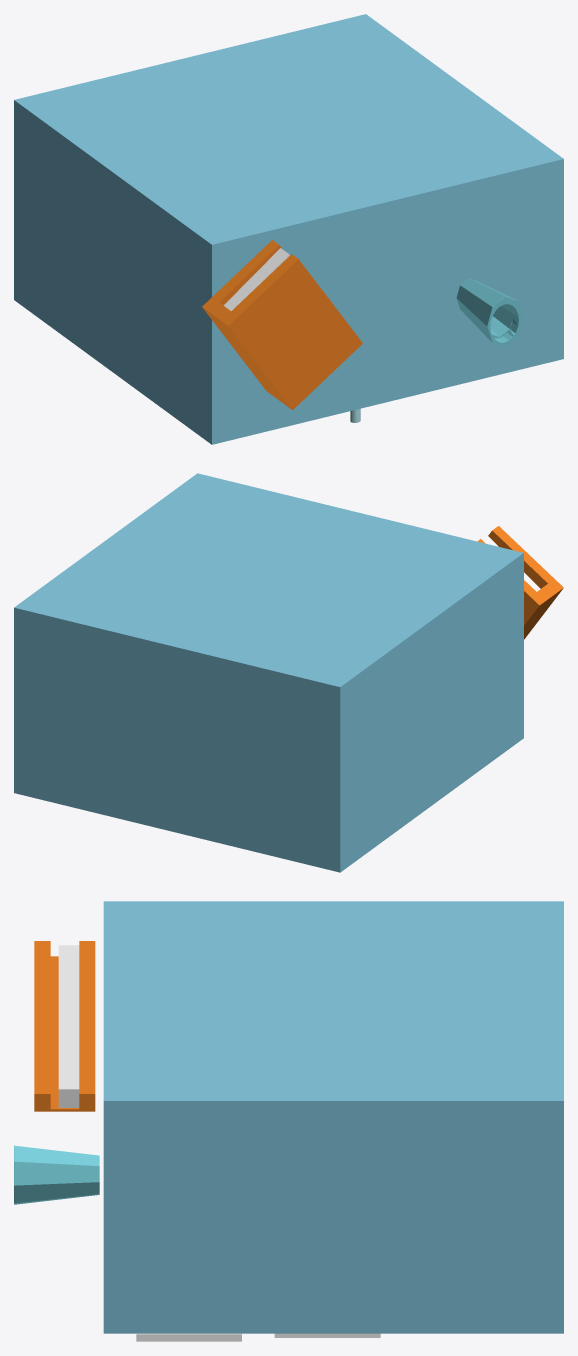
Rendered from tinker.obj.
The picture shows the model from 3 angles, top to bottom: view 1: azimuth 30°, elevation 25°; view 2: azimuth 150°, elevation 25°; view 3: azimuth 270°, elevation 25°; orthographic projection. The views are drawn at different scales.
Visible parts, largest first — view 1: group_0_8505826, group_0_16089887, group_0_7720667, group_0_16448250; view 2: group_0_8505826, group_0_16089887; view 3: group_0_8505826, group_0_16089887, group_0_7720667, group_0_16448250, group_0_16777215.
Part boxes in pixels (x1,y1,x2,y2): group_0_8505826: [14, 14, 563, 444]; group_0_16089887: [202, 240, 362, 410]; group_0_7720667: [456, 278, 523, 347]; group_0_16448250: [223, 248, 289, 310]; group_0_8505826: [14, 473, 523, 872]; group_0_16089887: [477, 526, 563, 639]; group_0_8505826: [103, 901, 563, 1333]; group_0_16089887: [34, 941, 95, 1111]; group_0_7720667: [14, 1145, 99, 1204]; group_0_16448250: [58, 945, 79, 1107]; group_0_16777215: [136, 1333, 380, 1341].
Bounding box in the file's own units: 120 × 77 × 135.
